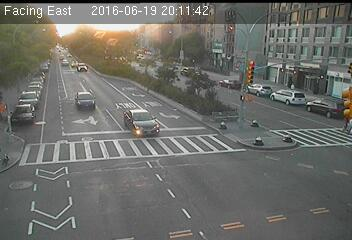neg: (147, 27, 165, 51), (90, 27, 106, 48), (54, 45, 66, 61)
